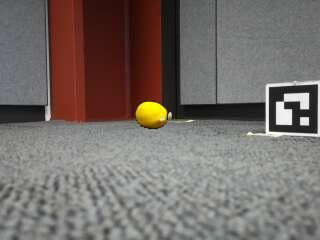lemon: (135, 102, 166, 128)
